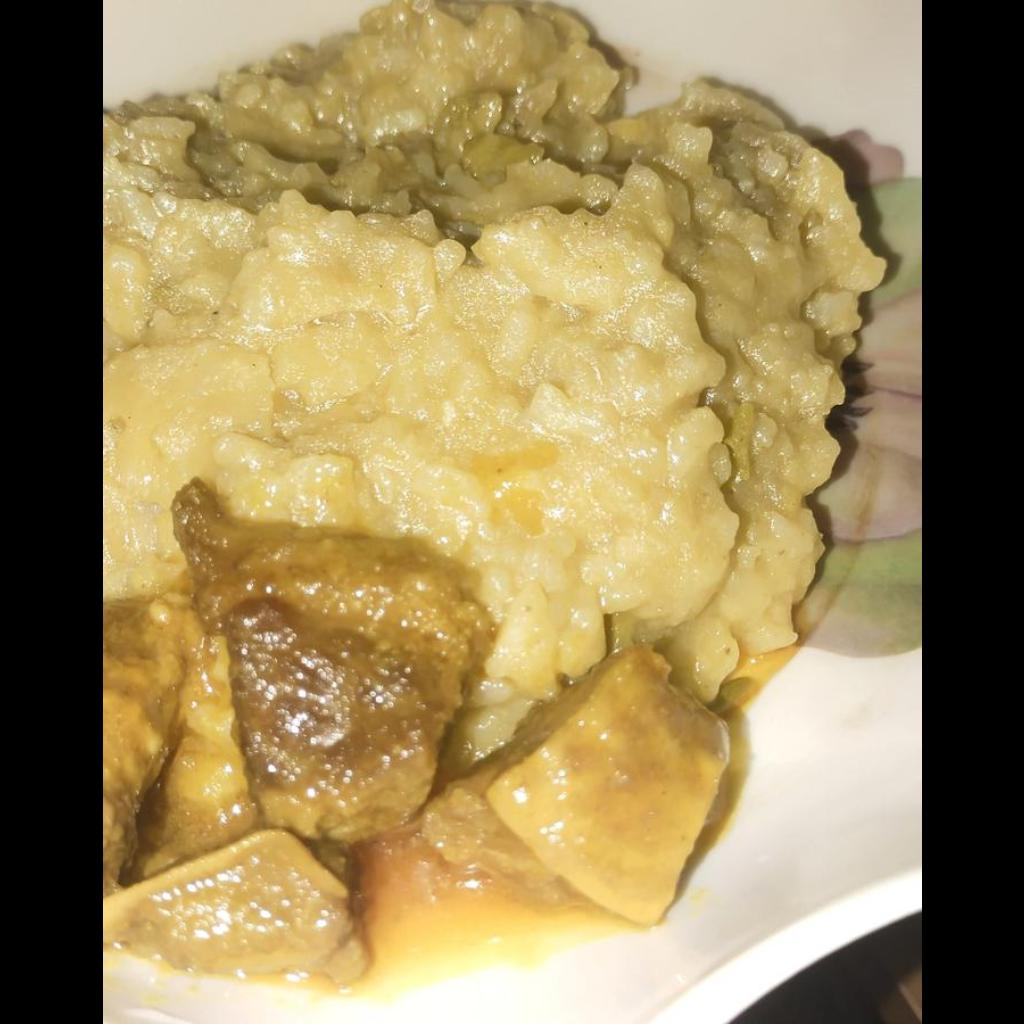khichuri: (103, 0, 886, 991)
